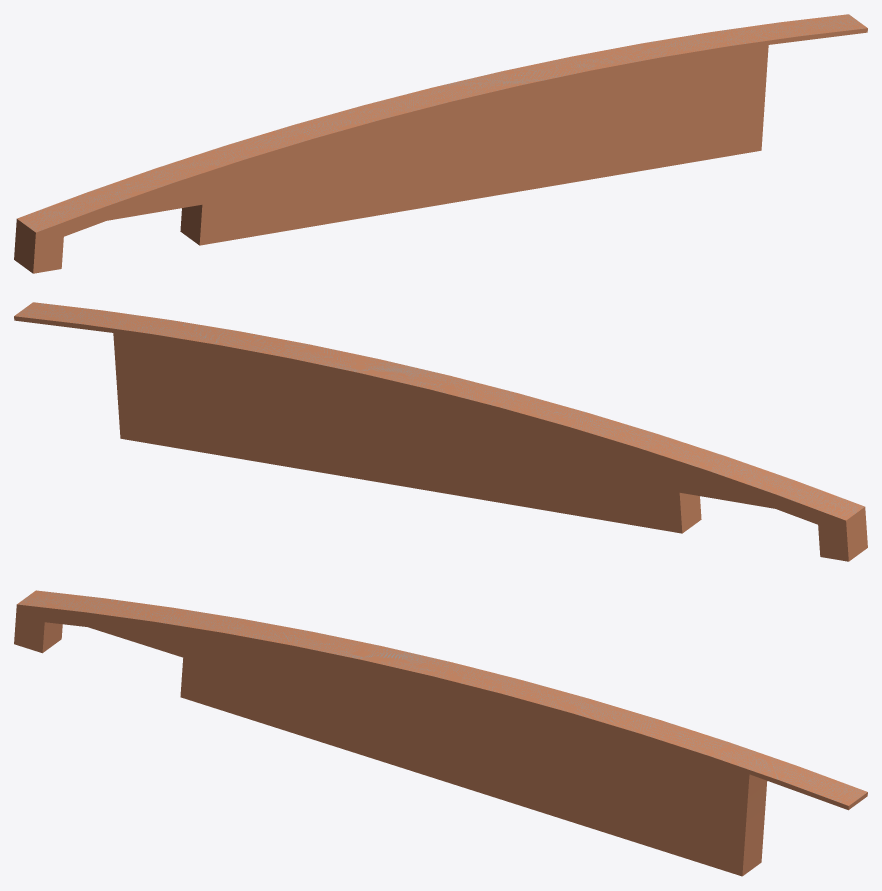
3 views of the same model, one above another, from view 1: azimuth 30°, elevation 25°; view 2: azimuth 150°, elevation 25°; view 3: azimuth 330°, elevation 25° (orthographic).
Parts seen in each view (by area): view 1: instance_2, instance_2.001; view 2: instance_2, instance_2.001; view 3: instance_2, instance_2.001.
Part boxes in pixels (x1=…): instance_2: x1=14, y1=28, x2=867, y2=273; instance_2.001: x1=17, y1=14, x2=867, y2=232; instance_2: x1=14, y1=316, x2=867, y2=561; instance_2.001: x1=14, y1=302, x2=864, y2=520; instance_2: x1=14, y1=604, x2=867, y2=876; instance_2.001: x1=17, y1=590, x2=867, y2=805.
Size of the model in its own units: 767 by 109 by 30.48.
